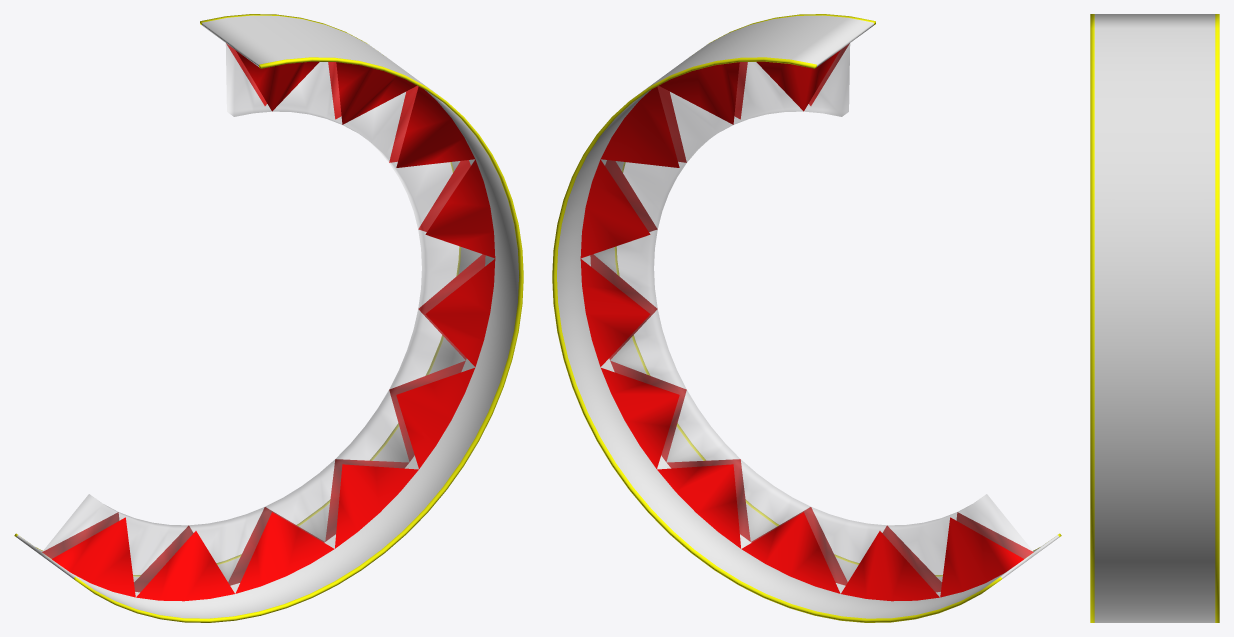
Rendered from FlickNote09.fbx.
3 views of the same model, side by side, from view 1: azimuth 30°, elevation 25°; view 2: azimuth 150°, elevation 25°; view 3: azimuth 270°, elevation 25° (orthographic). The views are drawn at different scales.
Parts seen in each view (by area): view 1: FlickNote09; view 2: FlickNote09; view 3: FlickNote09.
Part boxes in pixels (x1,y1,x2,y2): FlickNote09: (14,14,523,622); FlickNote09: (552,14,1061,622); FlickNote09: (1090,14,1219,622).
Size of the model in its own units: 169 by 40 by 198.
